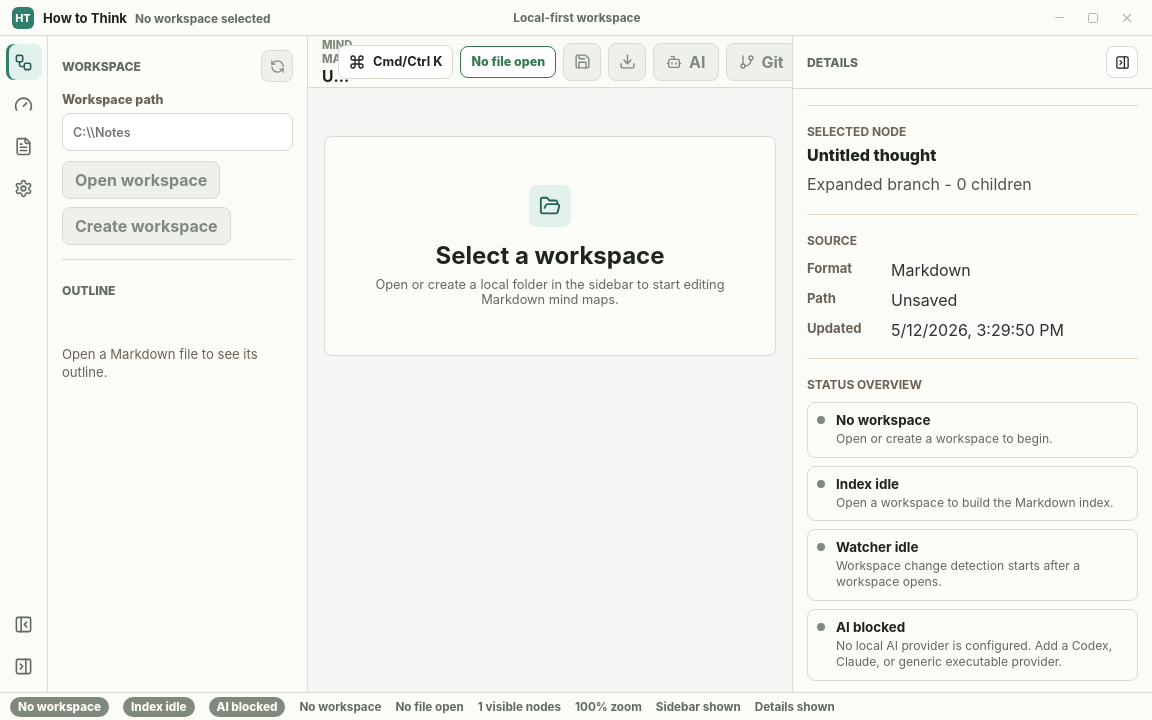
App workspace lifecycle › shows a workspace selection and creation path on first launch
The image size is (1152, 720).
Expected: the button "Open workspace" is disabled, x1=62 y1=161 x2=220 y2=199
Expected: the button "Create workspace" is disabled, x1=62 y1=207 x2=231 y2=245
Type "C:\\Notes" into the field labelled "Workspace path" at x=178, y=132, box x1=62 y1=113 x2=293 y2=151
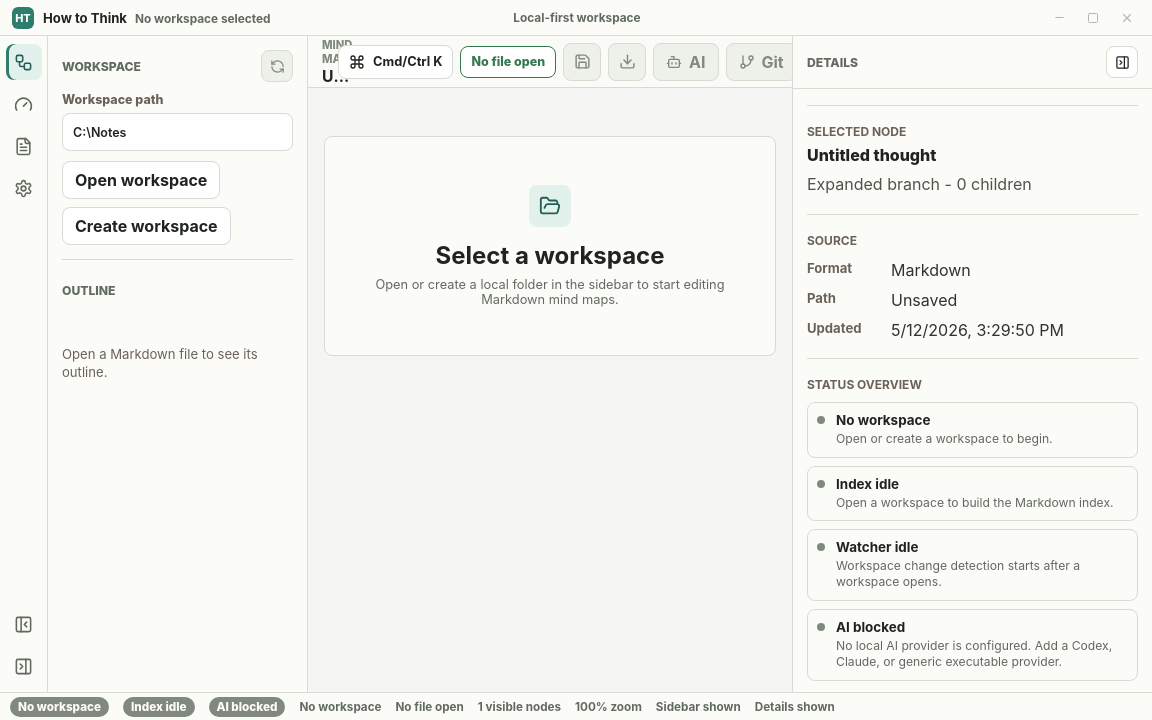
Expected: the button "Open workspace" is enabled, x1=62 y1=161 x2=220 y2=199
Expected: the button "Create workspace" is enabled, x1=62 y1=207 x2=231 y2=245
